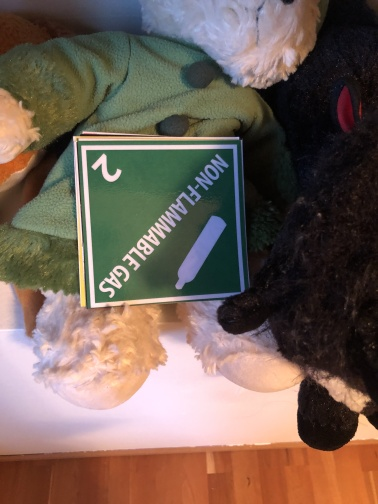NonFlammableGas: (78, 139, 247, 300)
